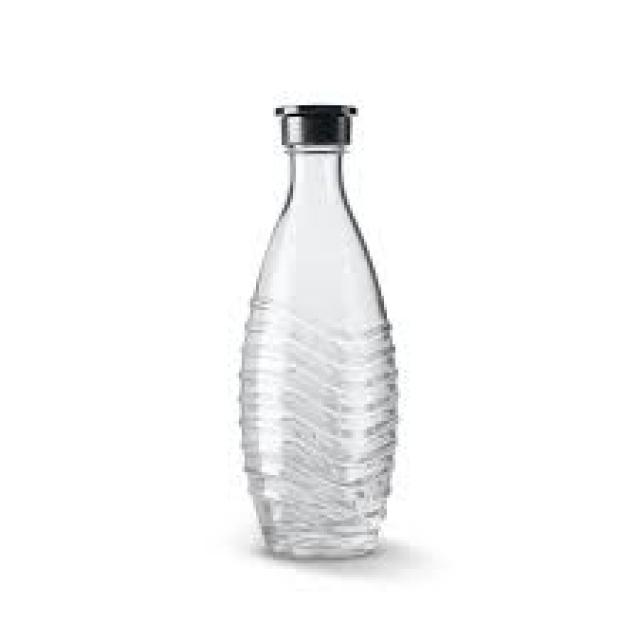Glass-Non-Biodegradable but Recyclable-: (237, 100, 397, 561)
